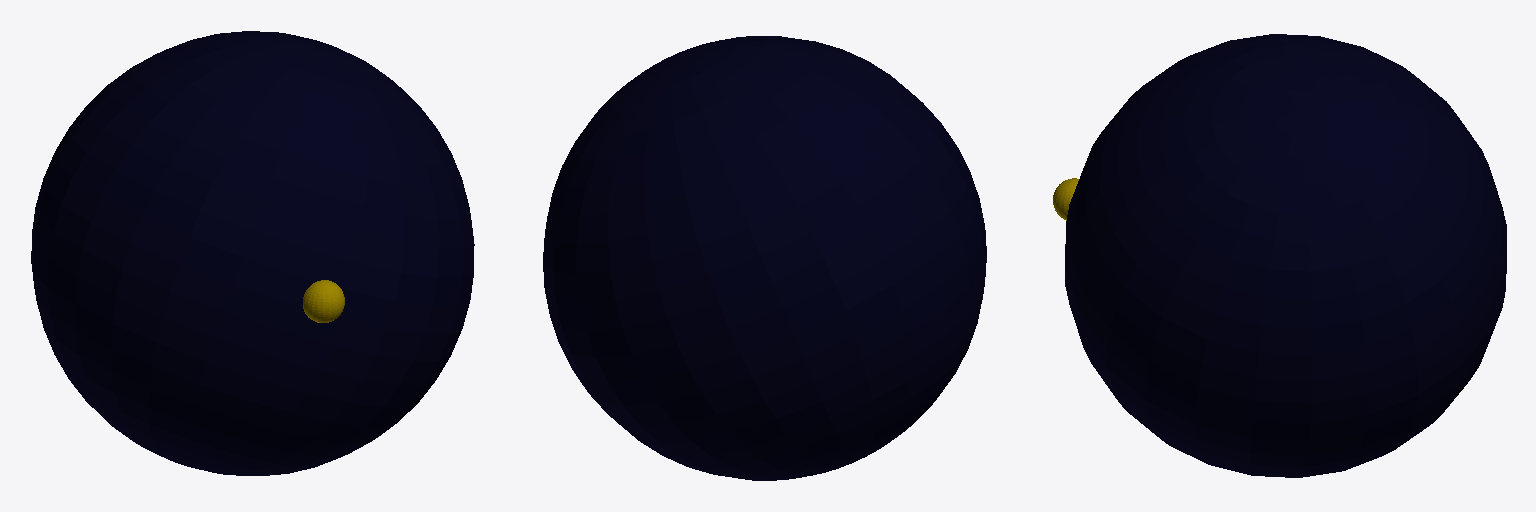
The model's file is earth-animation-webgl.obj.
3 renders of one model, left to right at view 1: azimuth 30°, elevation 25°; view 2: azimuth 150°, elevation 25°; view 3: azimuth 270°, elevation 25°, orthographic.
Parts seen in each view (by area): view 1: space, sun1; view 2: space; view 3: space, sun1.
Boxes of the visible parts, <box> form: space: <box>31,31,474,475</box>; sun1: <box>303,280,344,322</box>; space: <box>543,36,986,480</box>; space: <box>1065,34,1506,477</box>; sun1: <box>1053,178,1078,220</box>.
Size of the model in its own units: 173 by 174 by 178.